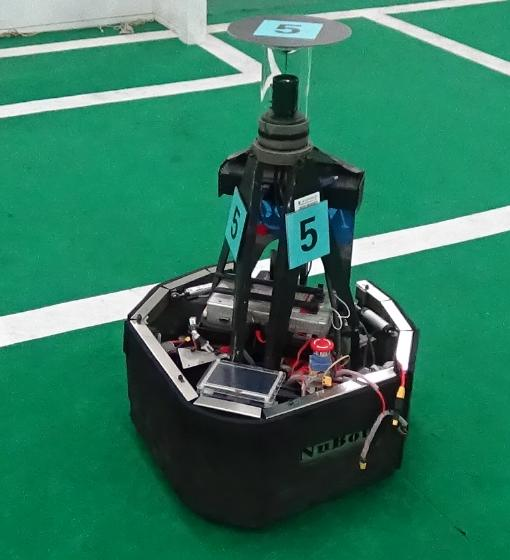robot: (119, 11, 418, 539)
